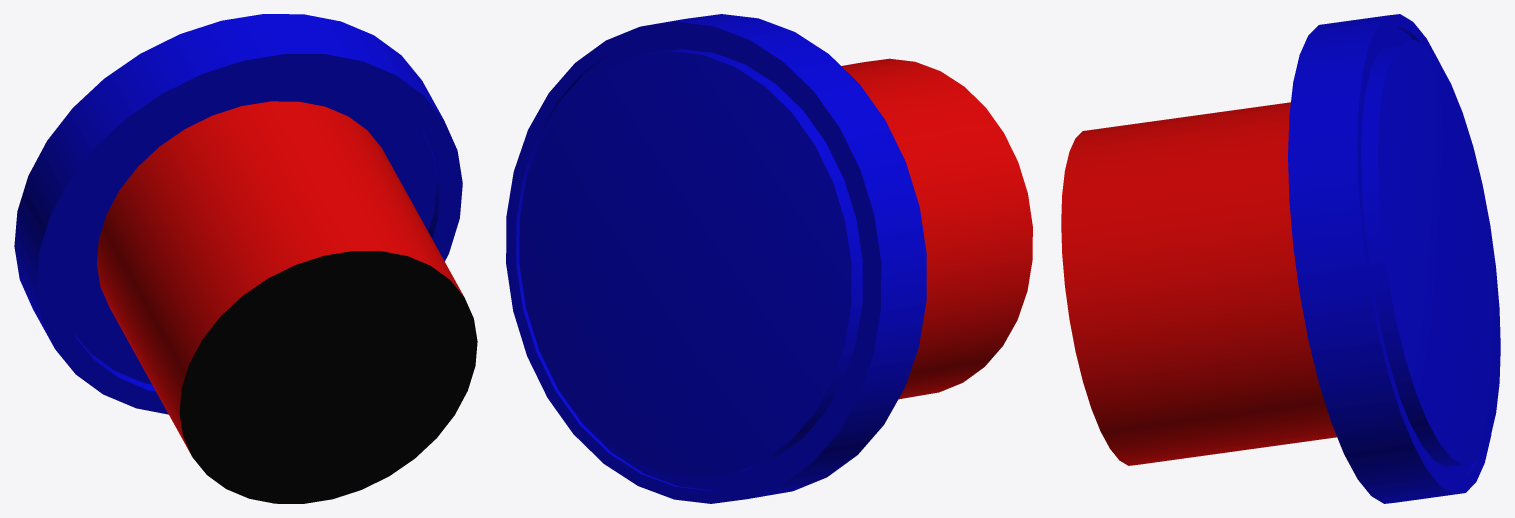
File: boton.fbx
The picture shows the model from 3 angles, left to right: view 1: azimuth 30°, elevation 25°; view 2: azimuth 150°, elevation 25°; view 3: azimuth 270°, elevation 25°; orthographic projection. The views are drawn at different scales.
Visible parts, largest first — view 1: pasted__Stop Button 02; view 2: pasted__Stop Button 02; view 3: pasted__Stop Button 02.
Part boxes in pixels (x1,y1,x2,y2): pasted__Stop Button 02: [14, 14, 477, 503]; pasted__Stop Button 02: [506, 14, 1032, 503]; pasted__Stop Button 02: [1061, 14, 1500, 503].
Bounding box in the file's own units: 1.46 × 1.45 × 1.31.
